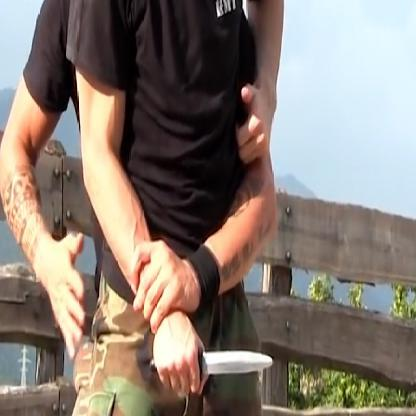knife: (144, 320, 278, 394)
